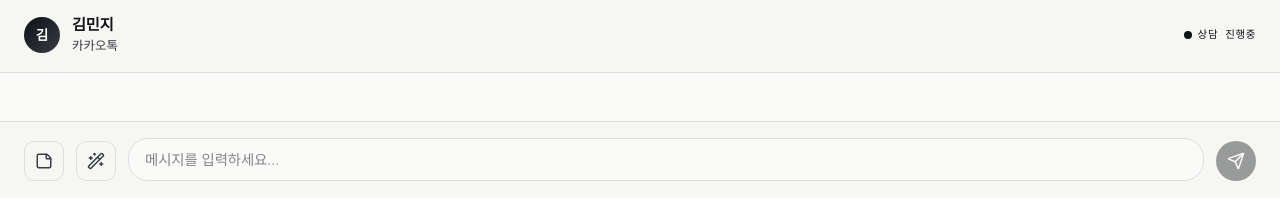
Test: ChatPanel › 답변 초안을 입력창에 삽입하되 자동 전송하지 않는다
This screenshot has width=1280, height=198.
Click the button named "답변 초안 삽입" at (96, 161), box [76,141,116,181]
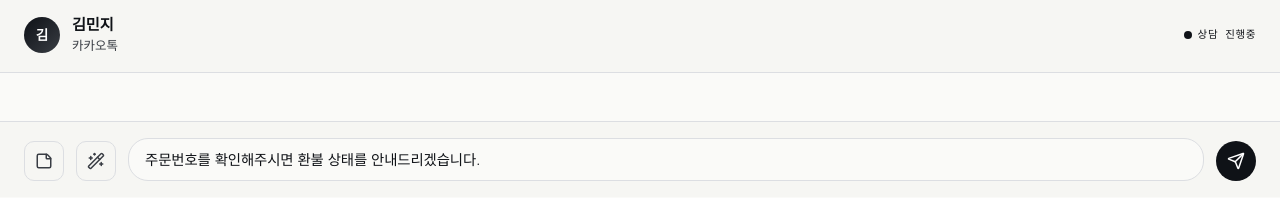
Check: the text box with placeholder "메시지를 입력하세요..." holds "주문번호를 확인해주시면 환불 상태를 안내드리겠습니다.", box [128,138,1204,181]
